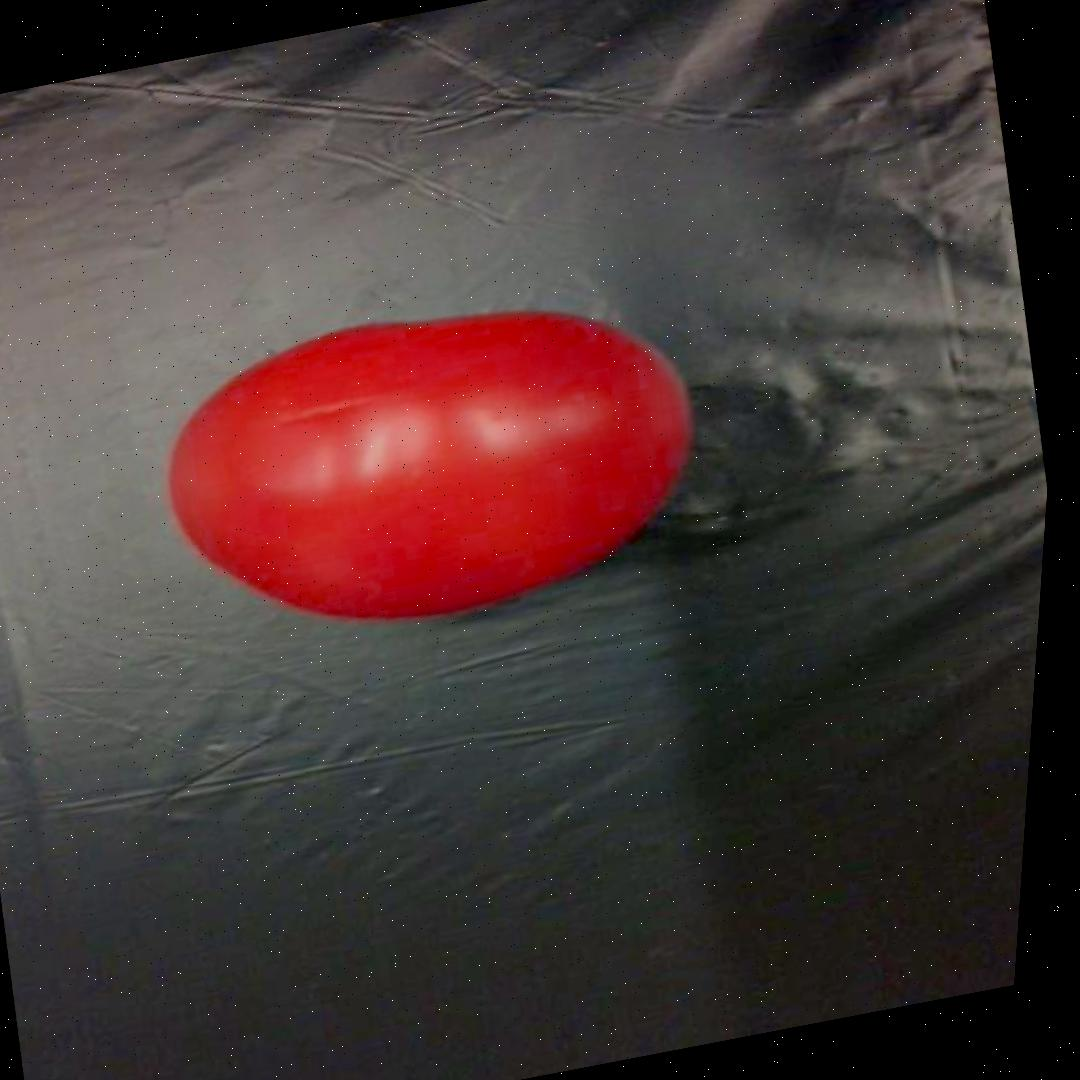matang: (136, 266, 732, 661)
